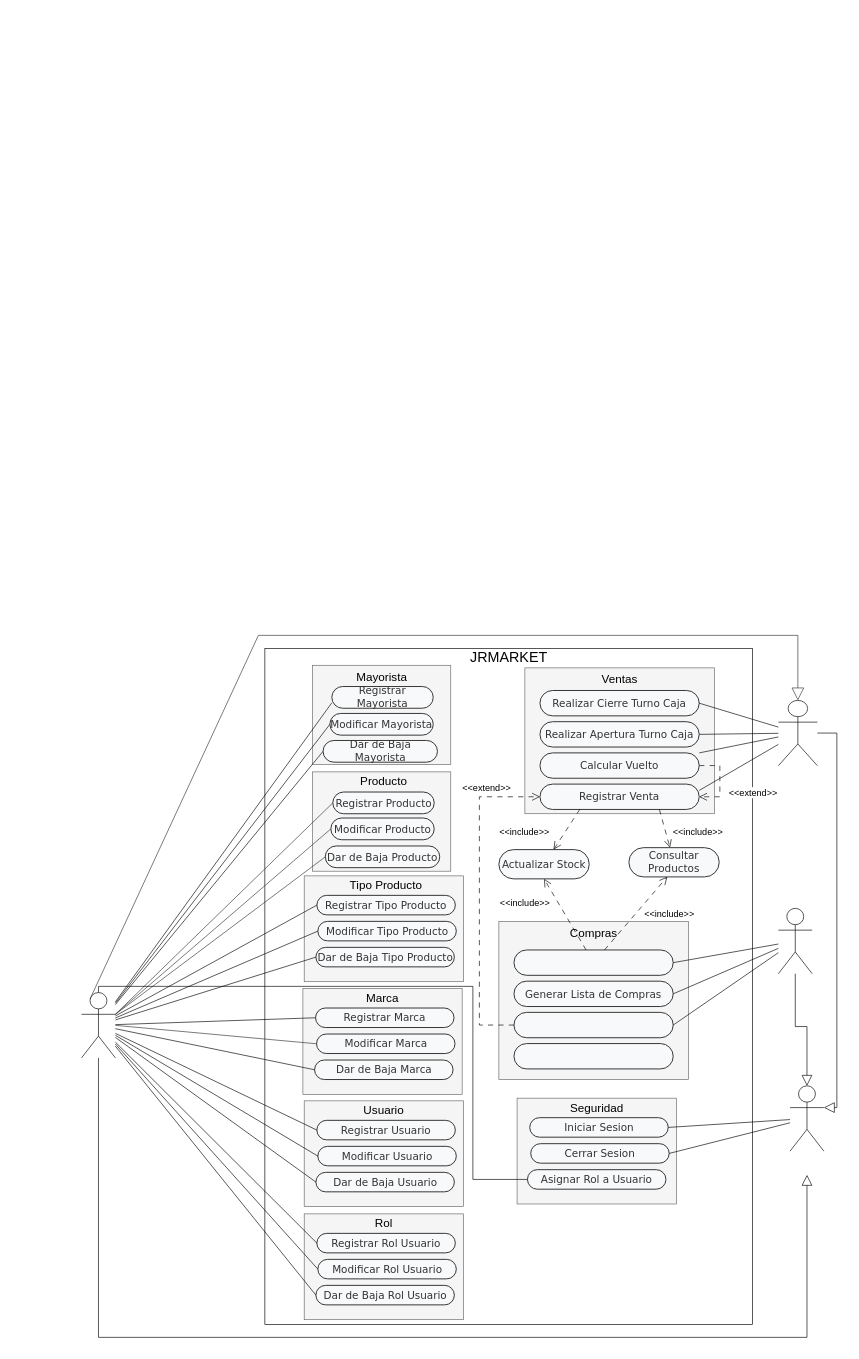
This 859x1359 diagram has some shape labels left out. Each missing label, with the centre of its shape:
"Administrador" goes at point (98, 1025).
"Emitir Lista de Compras" goes at point (593, 1056).
"Operador" goes at point (806, 1118).
"Registrar Compra de Productos" goes at point (593, 962).
"Repositor" goes at point (795, 941).
"Vendedor" goes at point (797, 733).
"Visualizar Alertas Stock Critico" goes at point (593, 1025).
